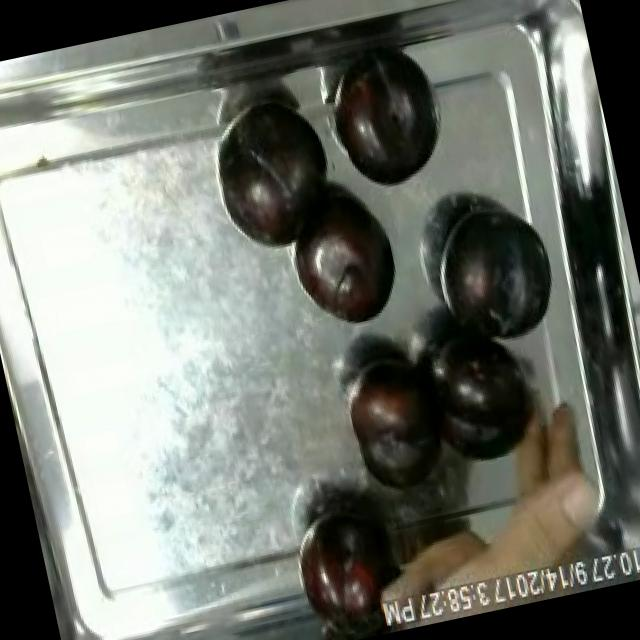Fruit: (198, 87, 354, 266), (422, 190, 570, 360), (328, 336, 469, 508), (315, 41, 460, 206), (278, 174, 417, 343), (281, 495, 407, 640)
